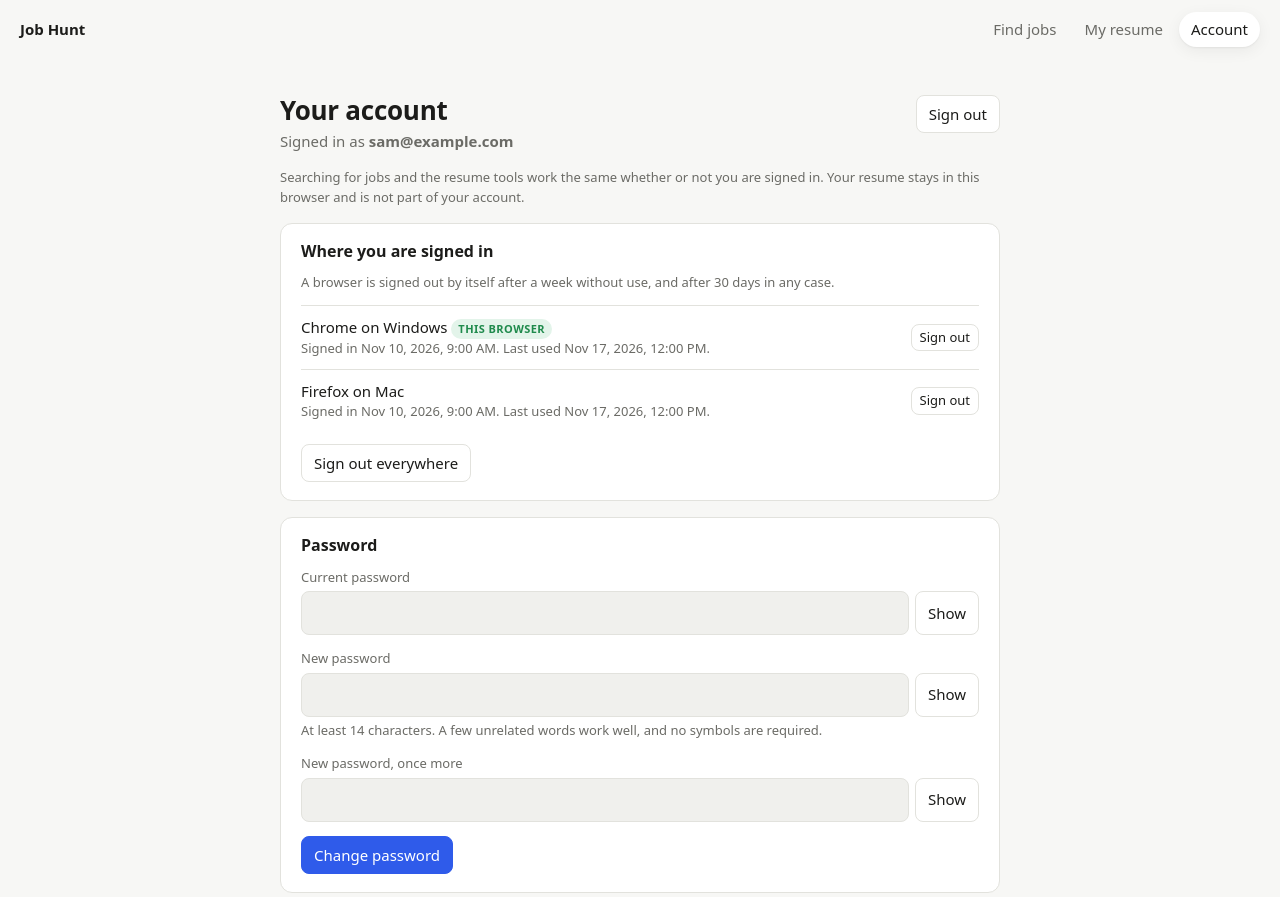
Scenario: where you are signed in › signs another browser out and stays signed in here
Expected: the text "Signed in as sam@example.com" is shown, [280,130,513,152]
Click the button "Sign out" in the row of "Firefox on Mac" at (945, 401), box [910,387,979,415]
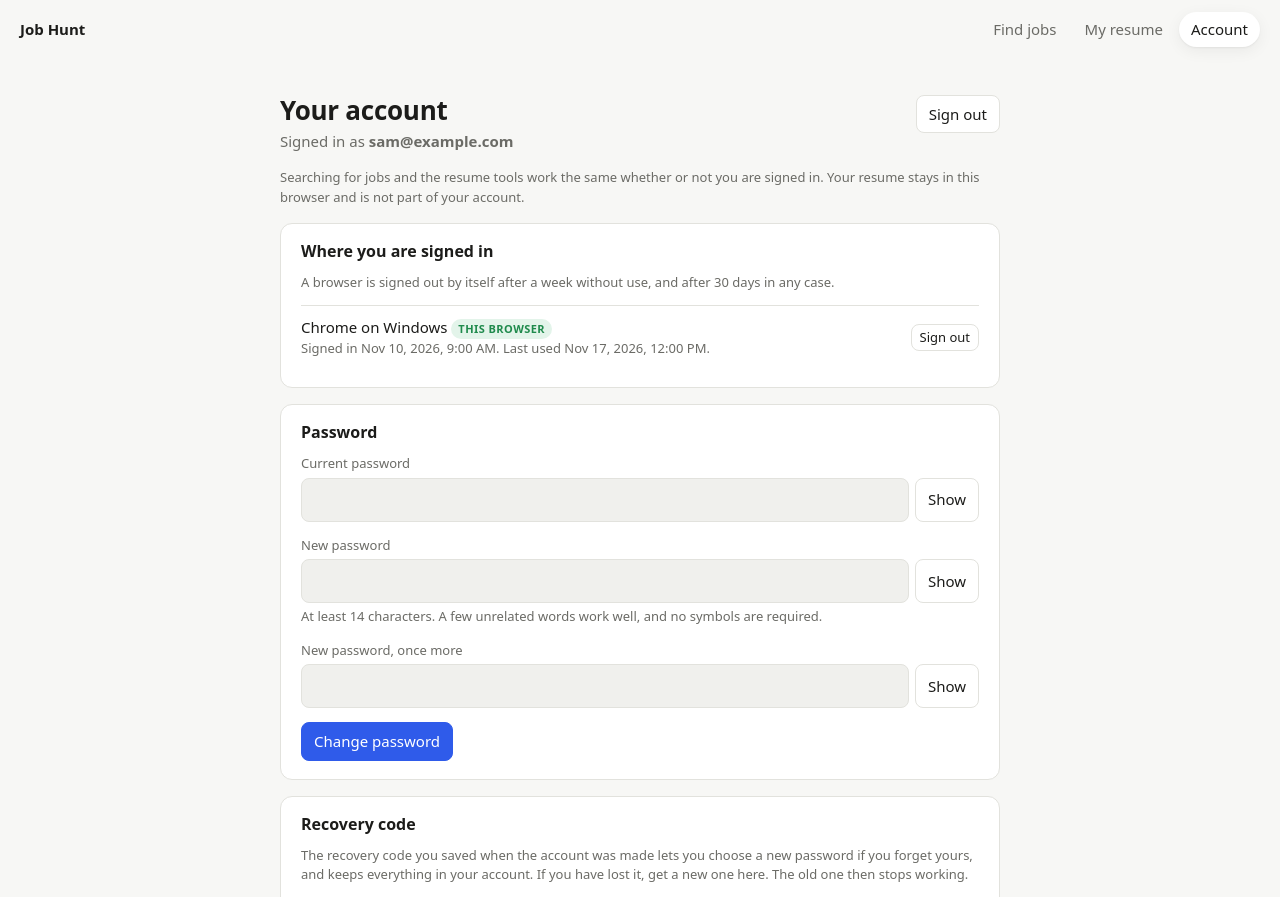
Expected: the text "Signed in as sam@example.com" is shown, [280,130,513,152]
Now the number of list items is 1, box [301,305,979,369]
